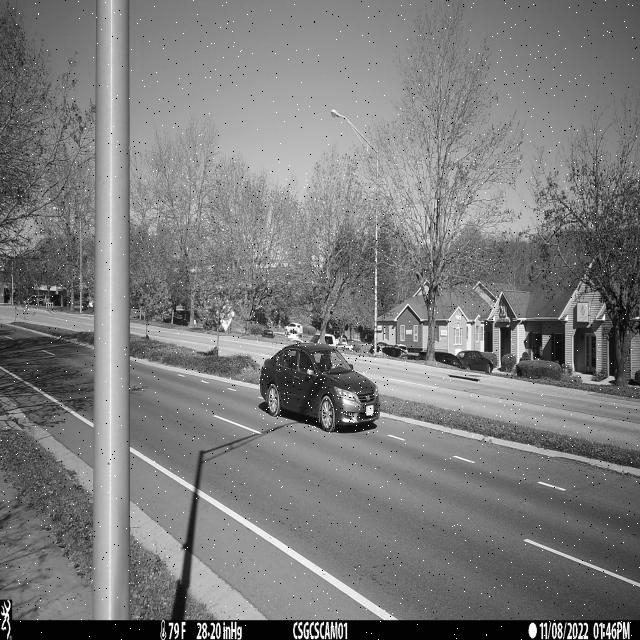Sedan: (259, 343, 380, 433)
